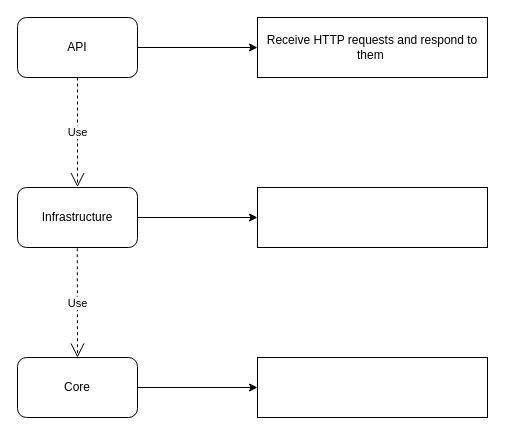
Some shapes in this 505 by 435 pixel diagram are drawn without their labels. The shapes that lost their labels are listed below. From the top down, each one's centre as x and y in pixels, then its label:
the point at 372,217: Communicate with the DB and send queries and get data
the point at 372,387: Contain the business entities. Do not depend on anything else
